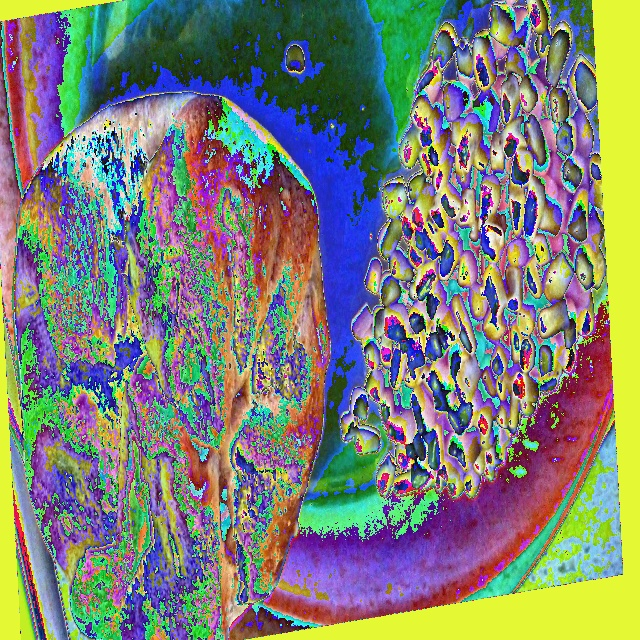background: (14, 93, 330, 639), (267, 0, 606, 500)
